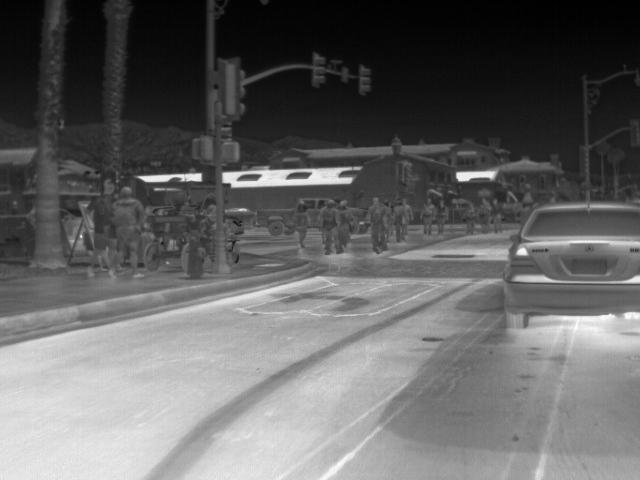car: (502, 200, 640, 334), (257, 206, 300, 234), (301, 197, 333, 230), (224, 213, 245, 238)
person: (109, 186, 145, 276), (86, 182, 116, 281), (362, 198, 388, 254), (330, 201, 352, 250), (293, 202, 312, 250), (321, 197, 336, 252), (476, 196, 494, 232), (390, 201, 406, 241), (200, 194, 218, 227), (421, 198, 437, 232), (436, 197, 451, 231), (399, 197, 416, 223)
